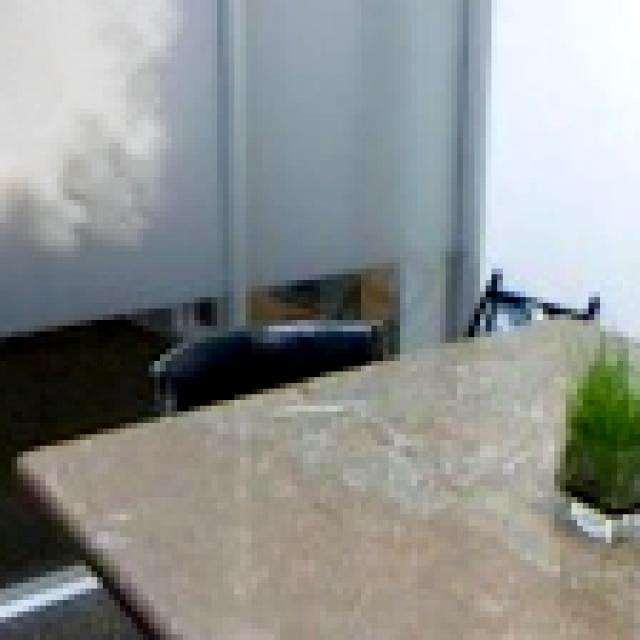smoke: (0, 0, 200, 280)
